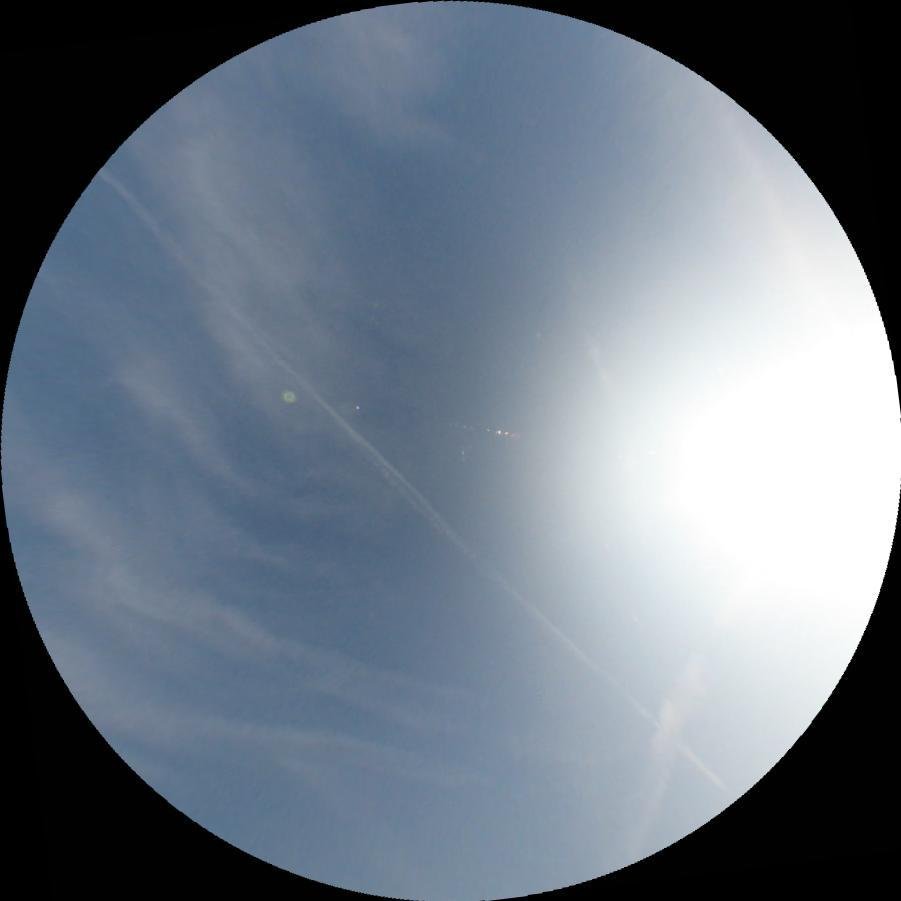contrail old: (86, 165, 730, 805)
contrail veryold: (115, 569, 651, 793), (599, 667, 707, 878)
sun: (656, 330, 901, 605)
